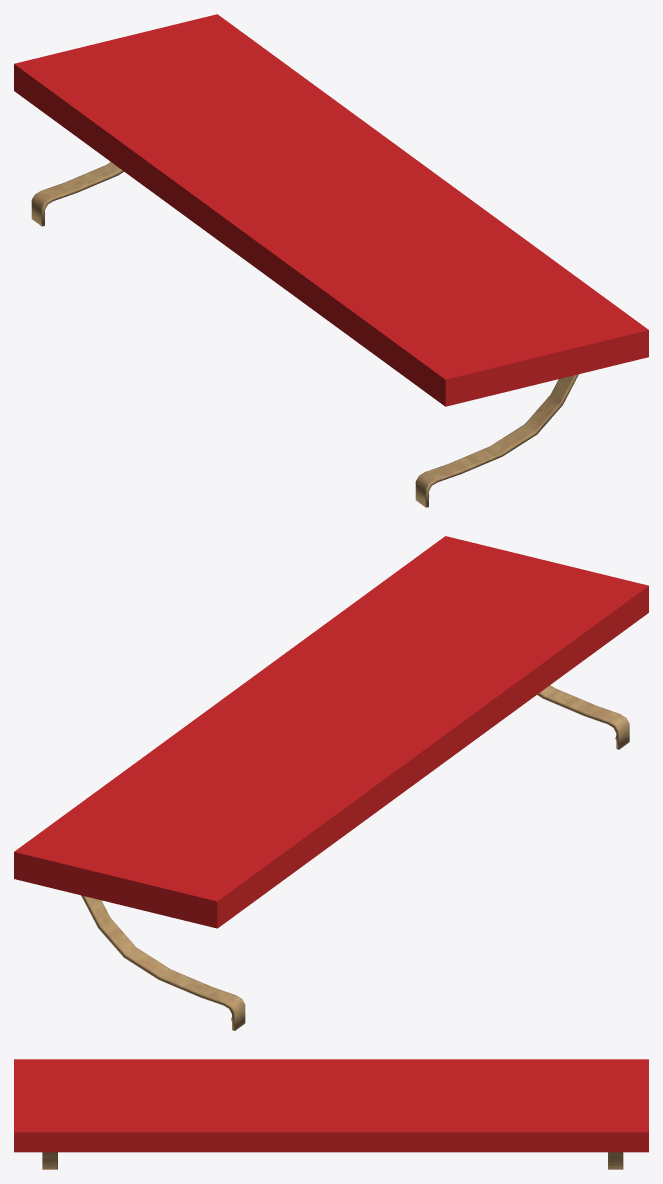
File: MOD_FUR_Shelf_01.fbx
3 views of the same model, one above another, from view 1: azimuth 30°, elevation 25°; view 2: azimuth 150°, elevation 25°; view 3: azimuth 270°, elevation 25° (orthographic). The views are drawn at different scales.
Visible parts, largest first — view 1: HSHP_MOD_Shelf_01; view 2: HSHP_MOD_Shelf_01; view 3: HSHP_MOD_Shelf_01.
Part boxes in pixels (x1,y1,x2,y2): HSHP_MOD_Shelf_01: (14, 14, 648, 507); HSHP_MOD_Shelf_01: (14, 536, 648, 1030); HSHP_MOD_Shelf_01: (14, 1059, 648, 1169).
Bounding box in the file's own units: 0.2723 × 0.182 × 1.
